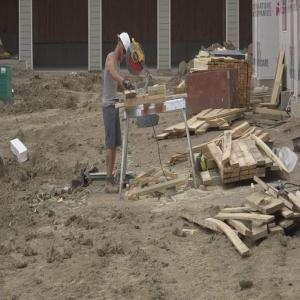white: (117, 32, 132, 61)
